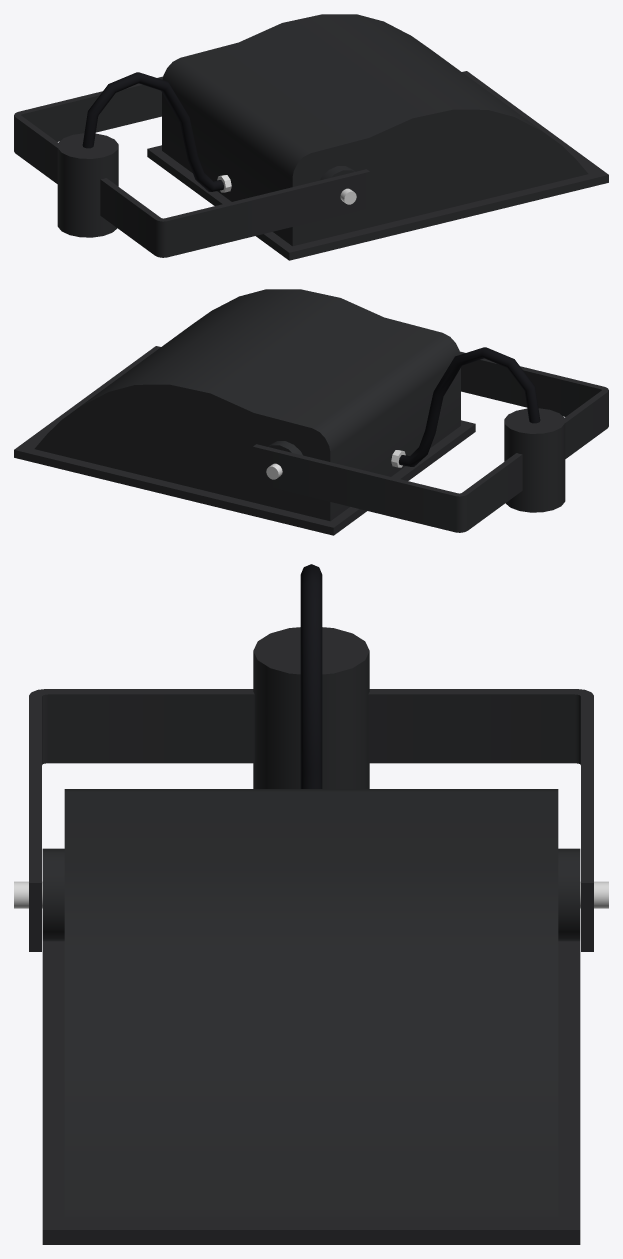
Rendered from Moritz_F_VIII.glb.
The picture shows the model from 3 angles, top to bottom: view 1: azimuth 30°, elevation 25°; view 2: azimuth 150°, elevation 25°; view 3: azimuth 270°, elevation 25°; orthographic projection. The views are drawn at different scales.
Parts seen in each view (by area): view 1: Gehaeuse, Halterung, Mastrohr, Kabel.001, Halteringe; view 2: Gehaeuse, Halterung, Mastrohr, Kabel.001, Halteringe; view 3: Gehaeuse, Halterung, Mastrohr, Halteringe, Kabel.001.
Part boxes in pixels (<box>): Gehaeuse: <box>147,14,608,260</box>; Halterung: <box>14,76,369,257</box>; Mastrohr: <box>57,133,118,237</box>; Kabel.001: <box>82,72,223,191</box>; Halteringe: <box>320,166,356,214</box>; Gehaeuse: <box>14,289,475,535</box>; Halterung: <box>253,351,608,532</box>; Mastrohr: <box>504,408,565,512</box>; Kabel.001: <box>399,347,540,466</box>; Halteringe: <box>266,441,302,489</box>; Gehaeuse: <box>42,789,580,1244</box>; Halterung: <box>29,689,593,951</box>; Mastrohr: <box>253,627,369,788</box>; Halteringe: <box>14,848,608,941</box>; Kabel.001: <box>300,564,322,788</box>.
Bounding box in the file's own units: 0.7605 × 0.2377 × 0.4345.
Materials: 5 (4 with a texture image).
